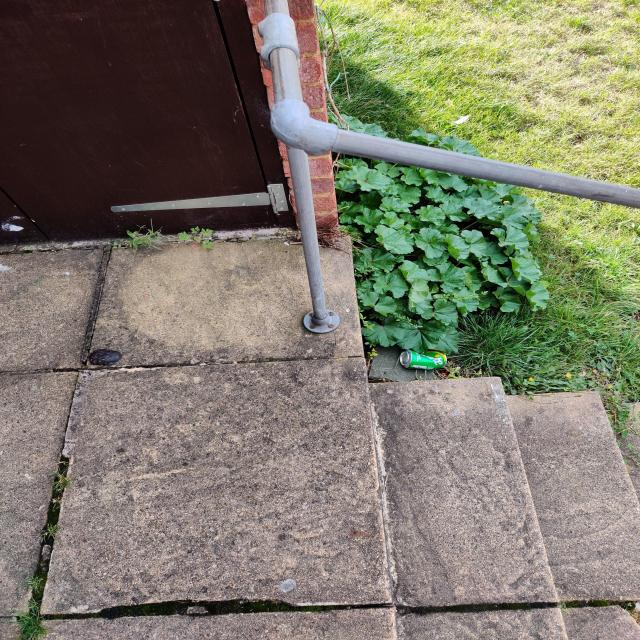litter: (399, 349, 447, 371)
